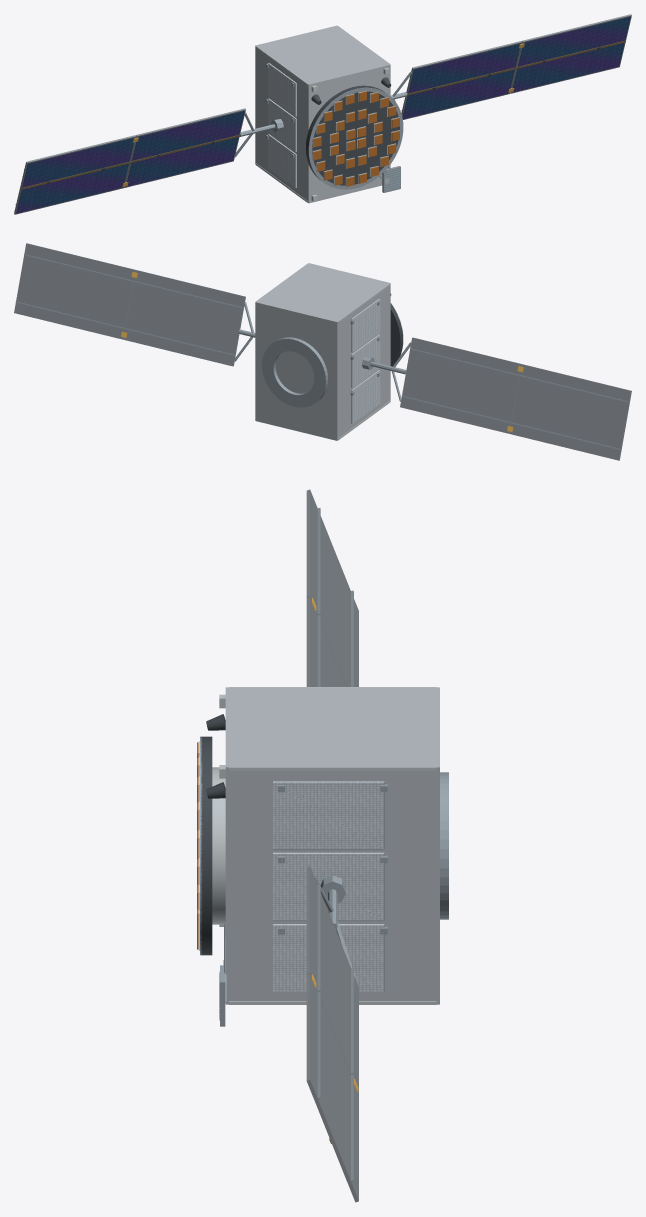
Rendered from ref-sstl-600-28922.glb.
The picture shows the model from 3 angles, top to bottom: view 1: azimuth 30°, elevation 25°; view 2: azimuth 150°, elevation 25°; view 3: azimuth 270°, elevation 25°; orthographic projection. The views are drawn at different scales.
Visible parts, largest first — view 1: Photovoltaic laminate (×8), Insulated spacecraft body, L-band navigation antenna carrier, Optical radiator bay (×3), Solar array leaf (×4), Antenna retaining rim, Laser retroreflector tray; view 2: Solar array leaf (×4), Insulated spacecraft body, Optical radiator bay (×3), Launch interface ring, L-band navigation antenna carrier; view 3: Insulated spacecraft body, Optical radiator bay (×3), Solar array leaf (×4), L-band navigation antenna carrier, Navigation antenna pedestal, Launch interface ring.
Boxes of the visible parts, x1=… form: Photovoltaic laminate (×8): x1=16, y1=16, x2=630, y2=213; Insulated spacecraft body: x1=255, y1=25, x2=390, y2=203; L-band navigation antenna carrier: x1=306, y1=85, x2=399, y2=185; Optical radiator bay (×3): x1=268, y1=63, x2=296, y2=187; Solar array leaf (×4): x1=14, y1=14, x2=631, y2=214; Antenna retaining rim: x1=308, y1=87, x2=403, y2=189; Laser retroreflector tray: x1=382, y1=166, x2=400, y2=192; Solar array leaf (×4): x1=14, y1=243, x2=631, y2=460; Insulated spacecraft body: x1=255, y1=263, x2=390, y2=440; Optical radiator bay (×3): x1=351, y1=299, x2=380, y2=423; Launch interface ring: x1=262, y1=337, x2=328, y2=407; L-band navigation antenna carrier: x1=390, y1=303, x2=402, y2=366; Insulated spacecraft body: x1=225, y1=687, x2=439, y2=1004; Optical radiator bay (×3): x1=273, y1=781, x2=384, y2=991; Solar array leaf (×4): x1=306, y1=489, x2=358, y2=1202; L-band navigation antenna carrier: x1=201, y1=736, x2=212, y2=955; Navigation antenna pedestal: x1=212, y1=767, x2=225, y2=924; Launch interface ring: x1=440, y1=772, x2=448, y2=919.
Size of the model in its own units: 9.59 by 1.9 by 1.73.
Materials: 11 (2 with a texture image).
